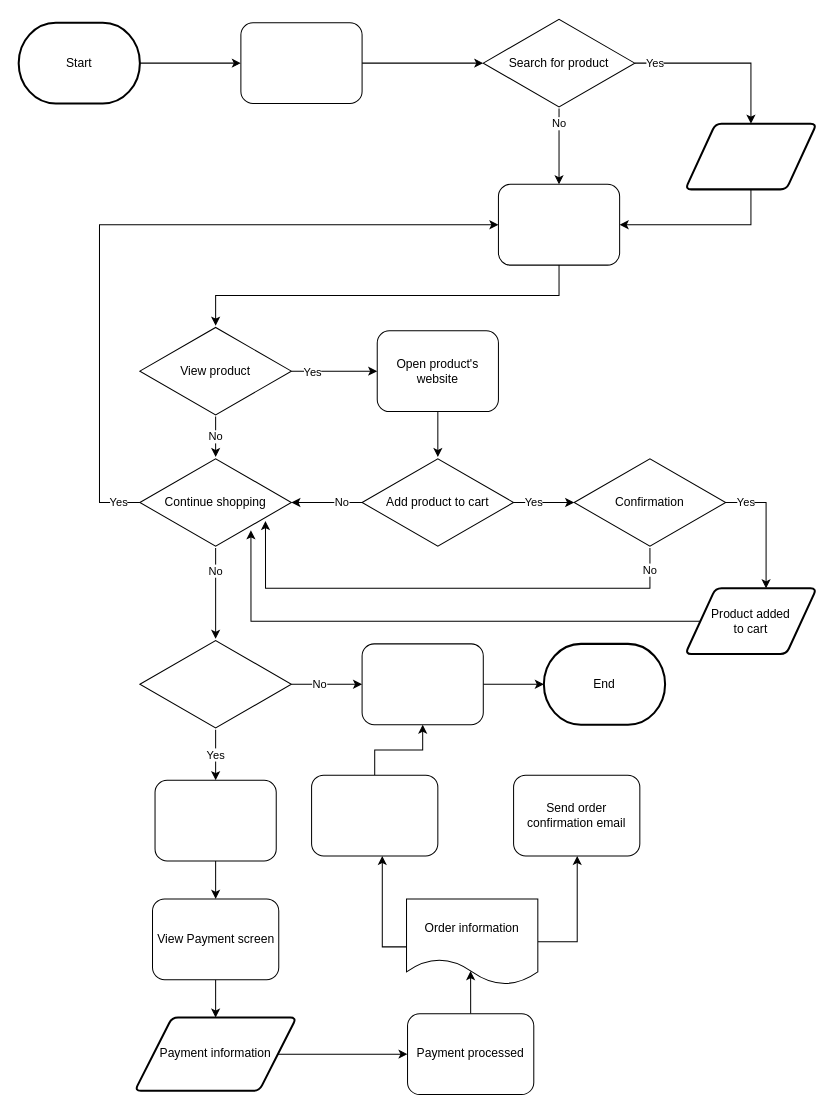
Some shapes in this 834 by 1113 pixel diagram are drawn without their labels. The centre of each missing label's shape, as x and y in pixels:
Checkout: point (215, 684)
Order confirmation screen: point (374, 815)
Overview of products: point (558, 224)
User enters website: point (301, 63)
User input of product: point (750, 156)
User leaves website: point (422, 684)
View Cart screen: point (215, 820)
